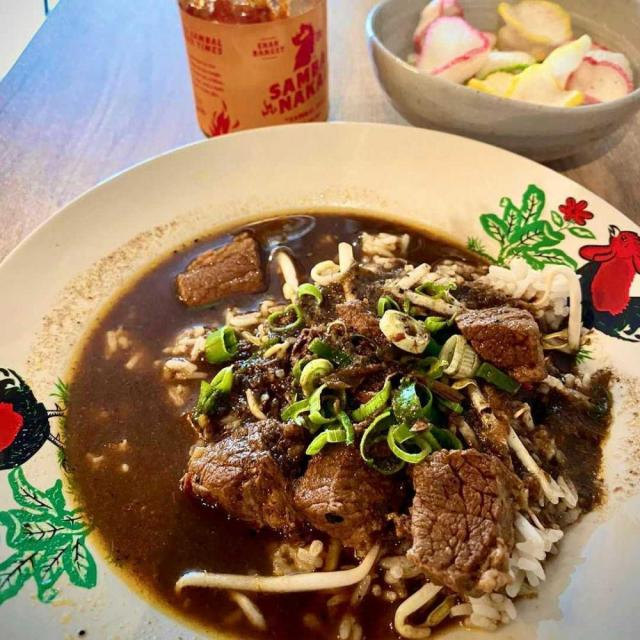Rawon: (55, 216, 592, 633)
